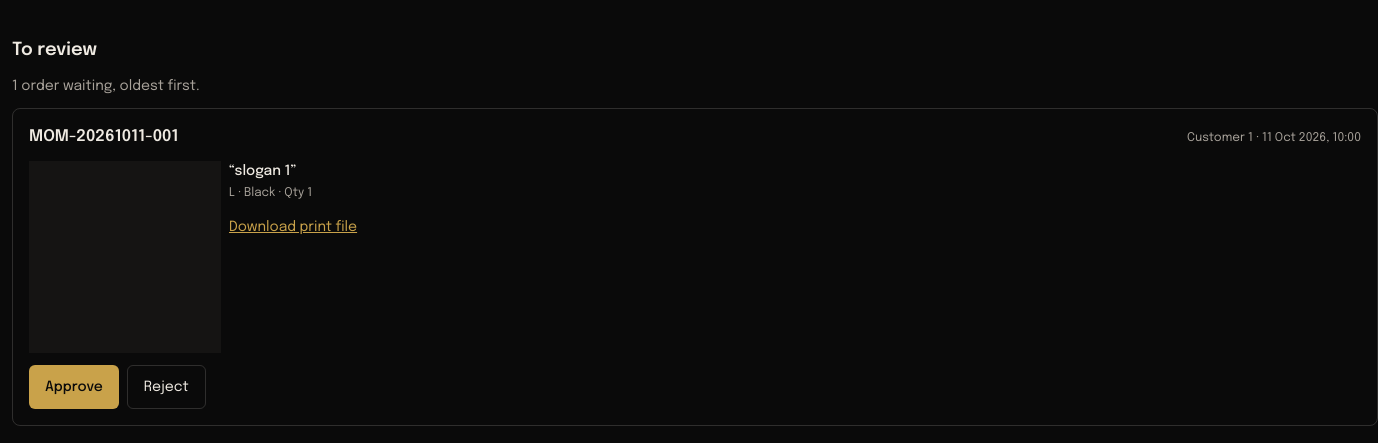
it: ModerationQueue › approves an order and removes it from the queue
Step 1. Click the button with aria-label "Approve MOM-20261011-001" → coordinates (74, 387), box [29,365,119,409]
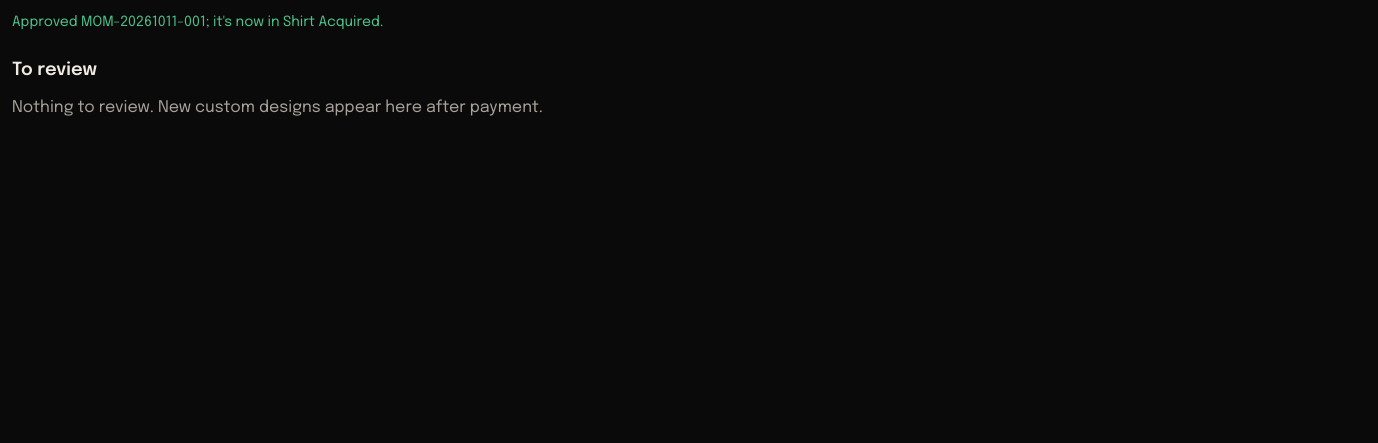
Expected: the text "Approved MOM-20261011-001; it's now in Shirt Acquired." is shown, [12,15,383,29]
Expected: the text "Nothing to review" is shown, [12,99,543,116]
